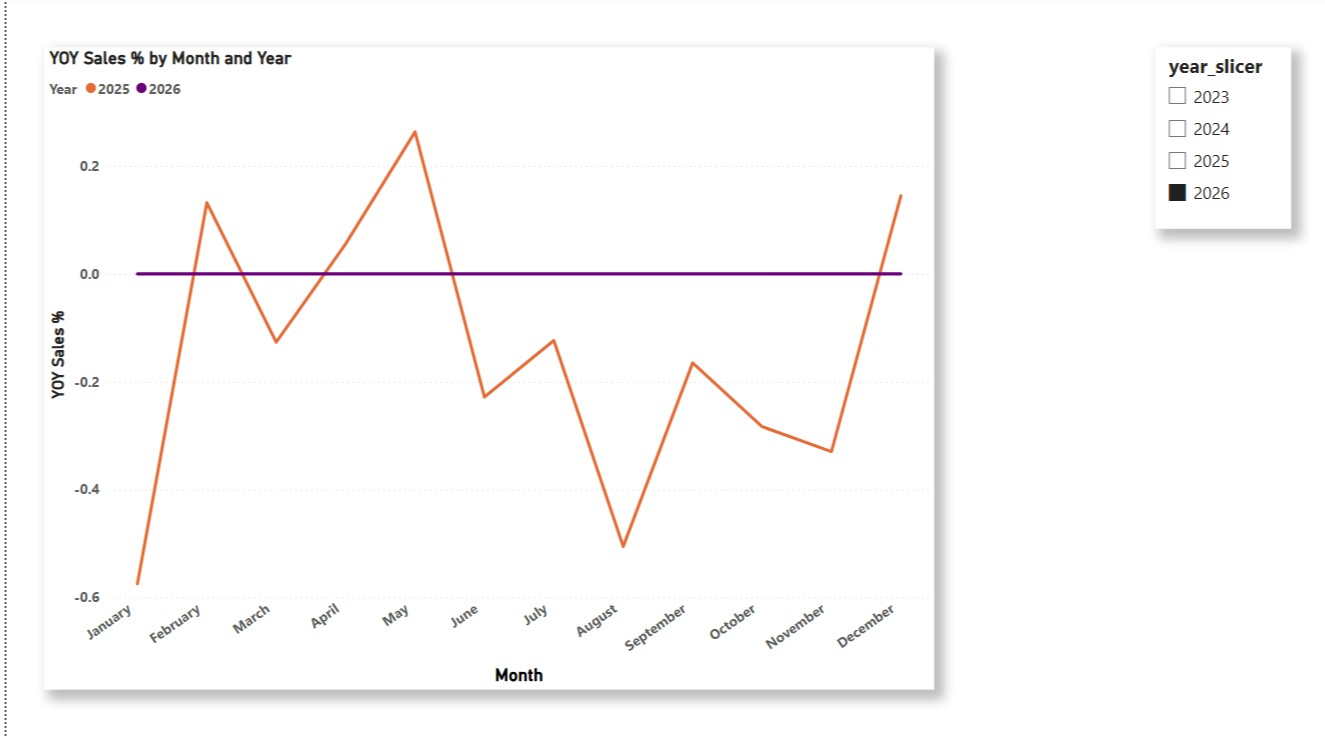

The page's visual inventory and layout, read from the dashboard file:
{"tool":"powerbi","page":{"name":"YOY %","canvas":[1280,720],"ordinal":4},"visuals":[{"type":"lineChart","fields":{"Category":["Date_Table.Month"],"Y":["_Measures.YOY %"],"Series":["Date_Table.Year"]},"box":[36.2,49.5,859,620.1],"z":0},{"type":"slicer","fields":{"Values":["year slicer.year_slicer"]},"box":[1108.7,49.5,131.5,174.9],"z":1000}]}

Visuals, with their boxes in screenshot pixels (x1, y1, x2, y2), scaled from the page's 1280x720 canvas onto the 1325x737 screenshot:
lineChart - Date_Table.Month x _Measures.YOY %: 37 51 927 685
slicer - year slicer.year_slicer: 1148 51 1284 230
